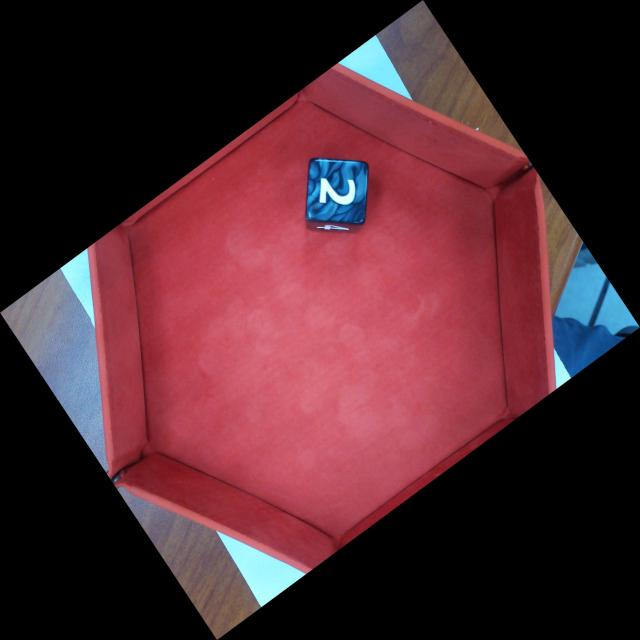dice: (304, 154, 370, 227)
